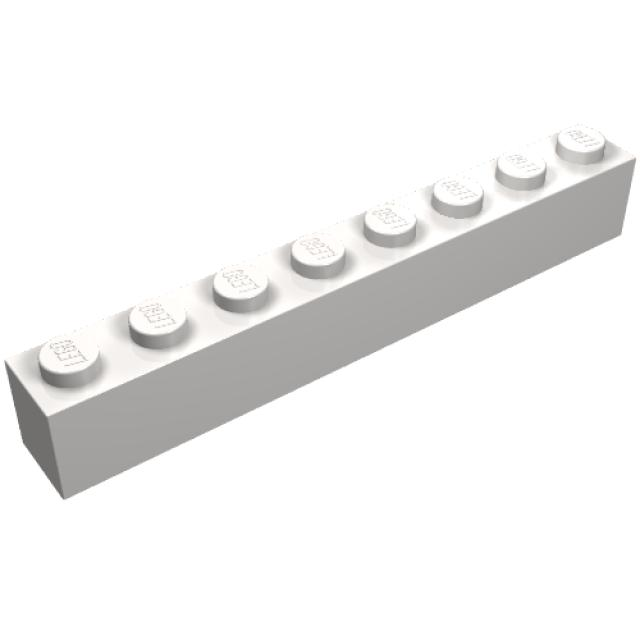White_Large: (1, 124, 640, 502)
